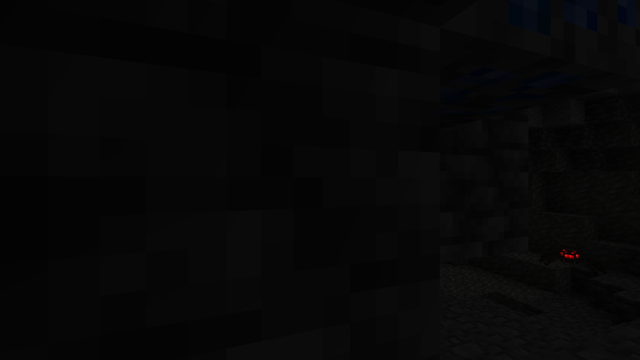araignees: (540, 240, 602, 274)
